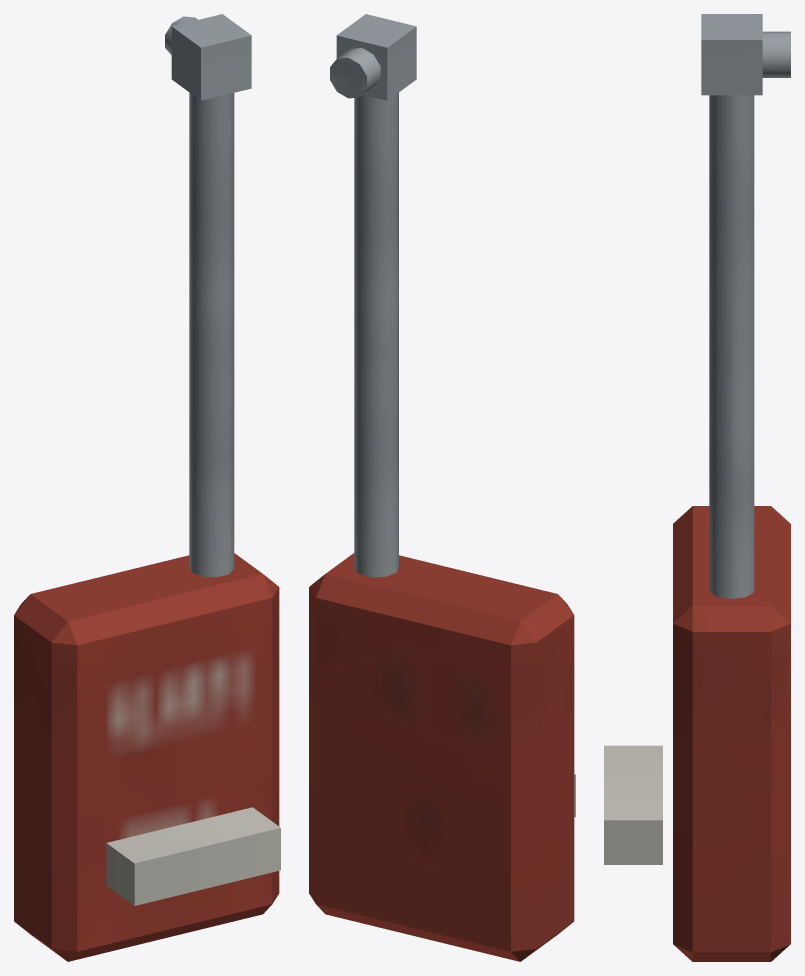
File: alarm_switch.fbx
3 views of the same model, side by side, from view 1: azimuth 30°, elevation 25°; view 2: azimuth 150°, elevation 25°; view 3: azimuth 270°, elevation 25° (orthographic). The views are drawn at different scales.
Parts seen in each view (by area): view 1: alarm_switch, alarm_switch_handle; view 2: alarm_switch; view 3: alarm_switch, alarm_switch_handle.
Part boxes in pixels (bbox=[...]): alarm_switch: bbox=[14, 14, 279, 961]; alarm_switch_handle: bbox=[106, 807, 280, 905]; alarm_switch: bbox=[309, 14, 574, 961]; alarm_switch: bbox=[673, 14, 790, 961]; alarm_switch_handle: bbox=[604, 745, 662, 864].
Bounding box in the file's own units: 0.14 × 0.5156 × 0.095.
Materials: 1 (1 with a texture image).
